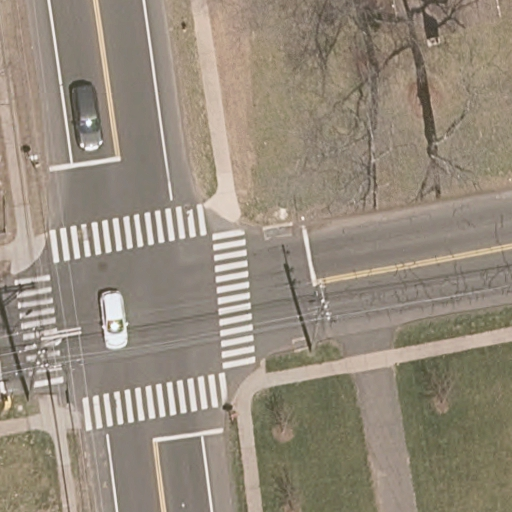DT: (25, 324, 83, 403), (307, 277, 334, 353)
